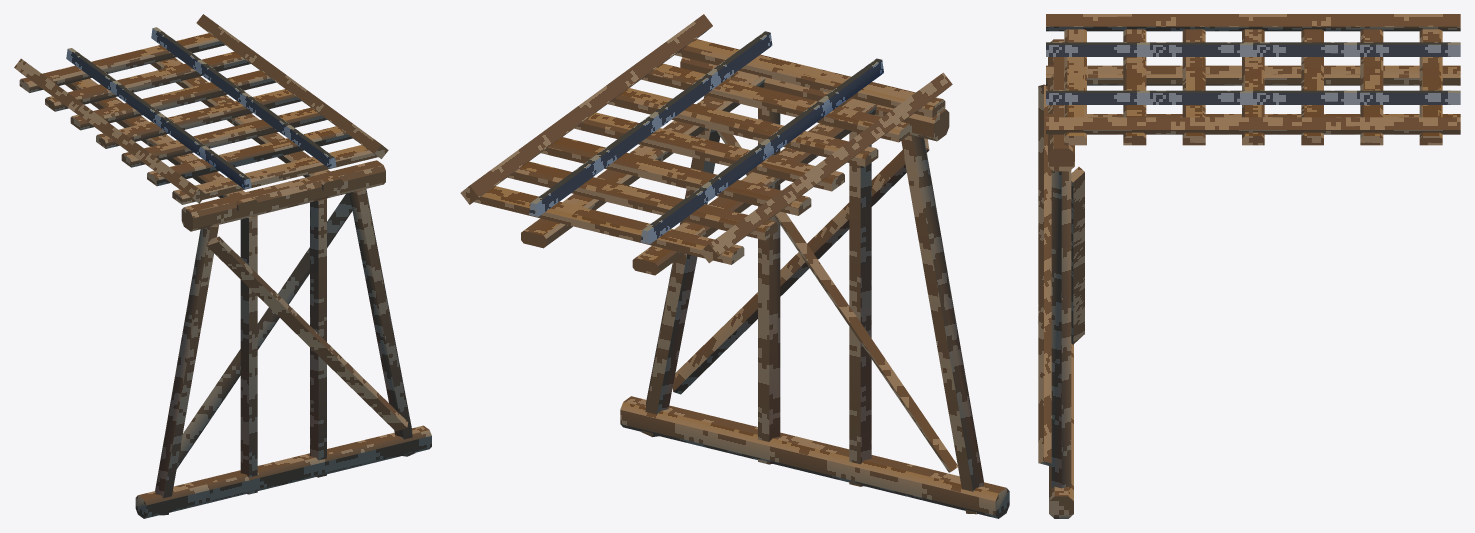
The model's file is wrail.trestle.glb.
3 views of the same model, side by side, from view 1: azimuth 30°, elevation 25°; view 2: azimuth 150°, elevation 25°; view 3: azimuth 270°, elevation 25° (orthographic). The views are drawn at different scales.
Parts seen in each view (by area): view 1: kit_ties, kit_bents, kit_braces, kit_sills, kit_rails, kit_guards, kit_caps, kit_stringers; view 2: kit_ties, kit_bents, kit_sills, kit_rails, kit_guards, kit_braces, kit_stringers, kit_caps; view 3: kit_guards, kit_rails, kit_ties, kit_braces, kit_bents, kit_stringers, kit_caps, kit_sills.
Part boxes in pixels (left/top/right/bottom): kit_ties: left=19, top=33, right=378, bottom=204; kit_bents: left=155, top=188, right=415, bottom=515; kit_braces: left=176, top=193, right=408, bottom=468; kit_sills: left=135, top=425, right=431, bottom=518; kit_rails: left=66, top=27, right=336, bottom=189; kit_guards: left=14, top=14, right=388, bottom=203; kit_caps: left=181, top=160, right=385, bottom=231; kit_stringers: left=65, top=57, right=342, bottom=212; kit_ties: left=474, top=39, right=945, bottom=264; kit_bents: left=641, top=95, right=983, bottom=514; kit_sills: left=620, top=396, right=1009, bottom=518; kit_rails: left=529, top=31, right=883, bottom=244; kit_guards: left=460, top=14, right=952, bottom=263; kit_braces: left=672, top=130, right=958, bottom=472; kit_stringers: left=521, top=71, right=877, bottom=275; kit_caps: left=680, top=57, right=949, bottom=141; kit_guards: left=1046, top=14, right=1460, bottom=134; kit_rails: left=1046, top=42, right=1460, bottom=104; kit_ties: left=1064, top=29, right=1442, bottom=145; kit_braces: left=1038, top=84, right=1084, bottom=465; kit_bents: left=1051, top=170, right=1071, bottom=488; kit_stringers: left=1046, top=65, right=1460, bottom=117; kit_caps: left=1048, top=39, right=1074, bottom=171; kit_sills: left=1049, top=343, right=1073, bottom=518.
Size of the model in its own units: 3.7 by 3.98 by 4.07.
Materials: 2 (2 with a texture image).
